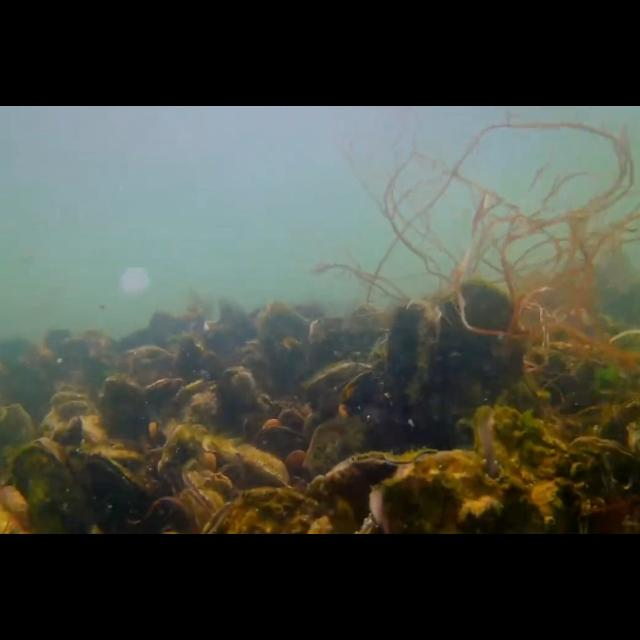Oyster-Closed: (304, 448, 438, 534), (555, 435, 639, 535), (72, 452, 158, 534), (156, 424, 210, 498), (181, 469, 225, 535), (56, 416, 84, 446)
Oyster-Indeterminate: (370, 452, 548, 534), (434, 278, 522, 407), (10, 437, 80, 535), (384, 299, 442, 406), (304, 415, 370, 483), (100, 375, 148, 449), (0, 403, 38, 477), (233, 444, 291, 488)
Oyster-Open: (469, 405, 568, 535), (302, 360, 378, 420), (168, 378, 220, 422)
